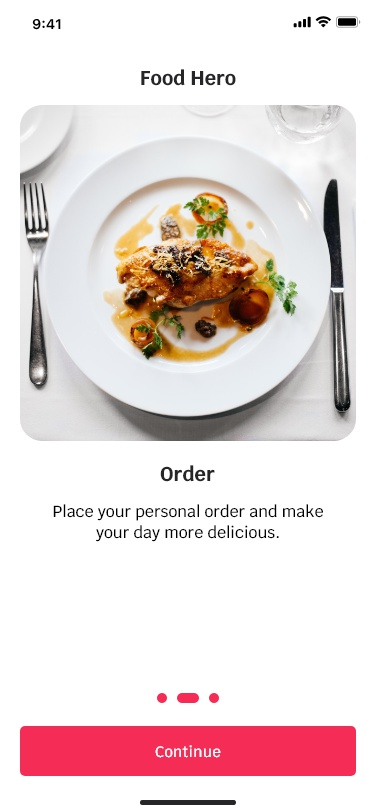Image: (21, 106, 356, 442)
PageIndicator: (156, 692, 221, 705)
Text: (53, 504, 324, 543), (140, 69, 238, 88), (160, 464, 216, 483)
TextButton: (21, 726, 356, 776)
UpperTaskBar: (32, 16, 362, 31)
